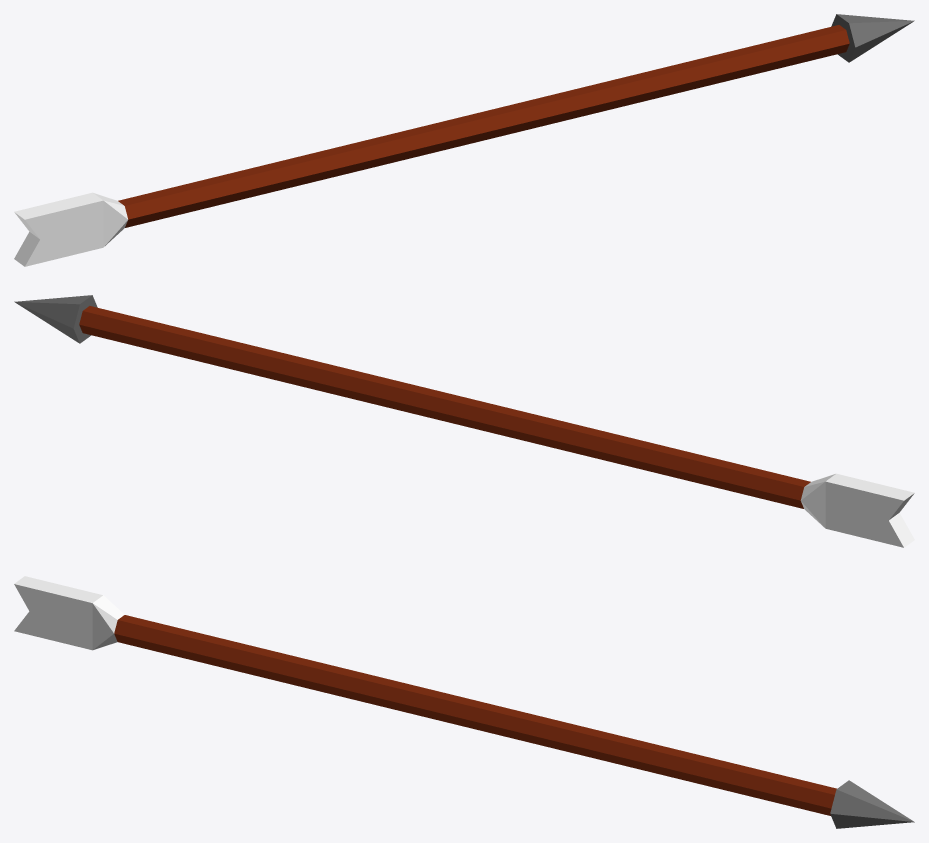
The model's file is Arrow.obj.
3 renders of one model, top to bottom at view 1: azimuth 30°, elevation 25°; view 2: azimuth 150°, elevation 25°; view 3: azimuth 330°, elevation 25°, orthographic.
Visible parts, largest first — view 1: Arrow_Cylinder.002; view 2: Arrow_Cylinder.002; view 3: Arrow_Cylinder.002.
Part boxes in pixels (x1,y1,x2,y2): Arrow_Cylinder.002: [14, 14, 914, 266]; Arrow_Cylinder.002: [14, 295, 914, 547]; Arrow_Cylinder.002: [14, 576, 914, 828].
Size of the model in its own units: 0.8484 by 0.0427 by 0.0413.
